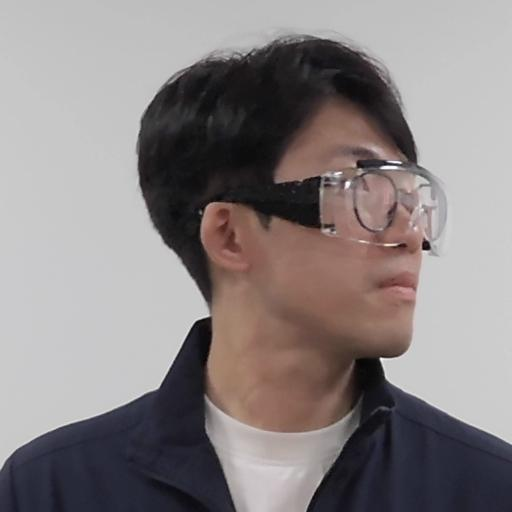glasses: (138, 31, 461, 379)
